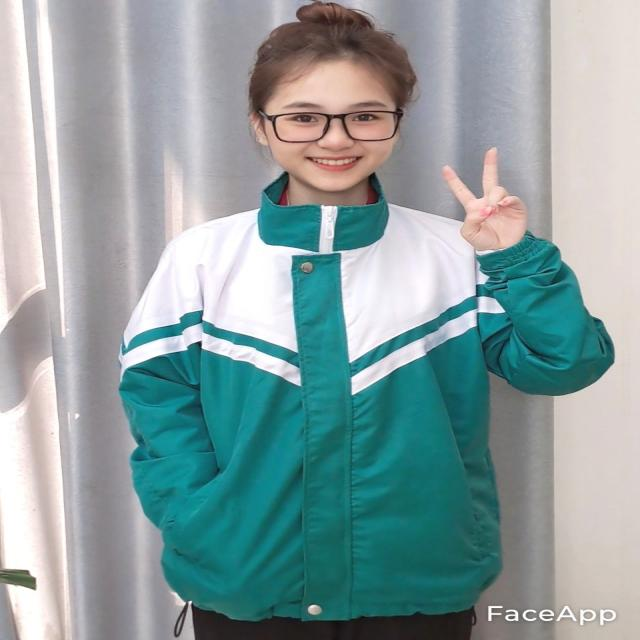Nonhelmet: (242, 1, 420, 193)
